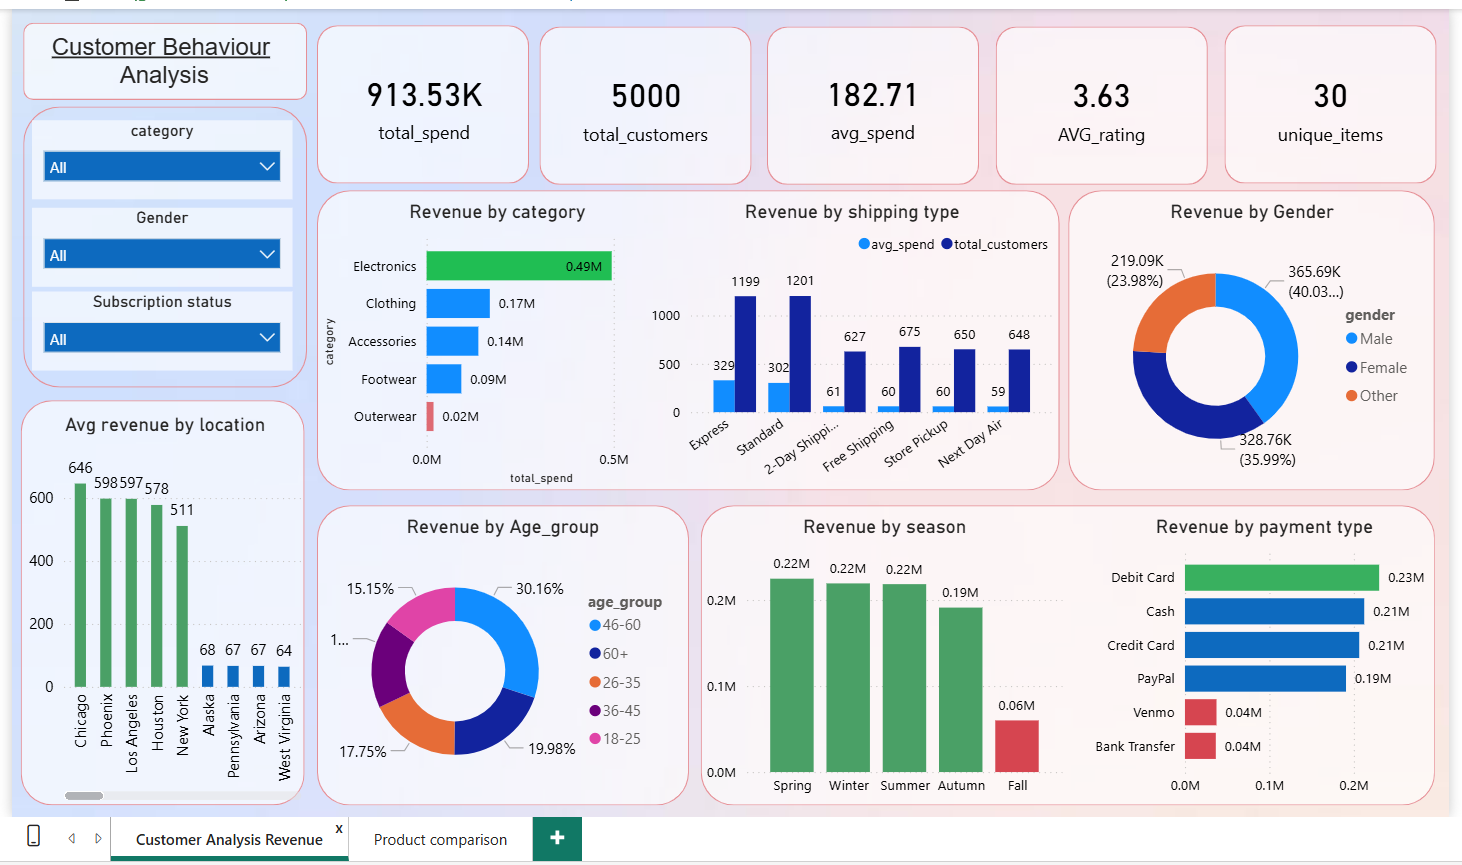

This screenshot's page, from the dashboard's own definition file:
{"tool":"powerbi","page":{"name":"Customer Analysis Revenue","canvas":[1280,720],"ordinal":0},"visuals":[{"type":"shape","box":[271.2,14.7,189,141.1],"z":0},{"type":"shape","box":[9.8,87.1,252.8,250.3],"z":0,"group":"g1"},{"type":"slicer","title":"Subscription status","fields":{"Values":["Customer_behaviour_analysis.subscription_status"]},"box":[17.2,251.9,232,70.1],"z":1000,"group":"g1"},{"type":"shape","box":[7.4,348.5,252.8,360.7],"z":1000},{"type":"slicer","title":"Gender","fields":{"Values":["Customer_behaviour_analysis.gender"]},"box":[17.2,176.9,232,70.1],"z":2000,"group":"g1"},{"type":"shape","box":[271.2,441.7,331.3,267.5],"z":2000},{"type":"slicer","title":"category","fields":{"Values":["Customer_behaviour_analysis.category"]},"box":[17.2,99.5,232,70.1],"z":3000,"group":"g1"},{"type":"shape","box":[941.1,162,326.4,267.5],"z":3000},{"type":"shape","box":[271.2,162,661.4,267.5],"z":4000},{"type":"shape","box":[613.5,441.7,654,267.5],"z":5000},{"type":"shape","box":[9.8,12.3,252.8,68.7],"z":6000},{"type":"shape","box":[469.9,16,189,141.1],"z":7000},{"type":"shape","box":[672.4,16,189,141.1],"z":8000},{"type":"shape","box":[876.1,16,189,141.1],"z":9000},{"type":"shape","box":[1079.8,14.7,189,141.1],"z":10000},{"type":"card","fields":{"Values":["Customer_behaviour_analysis.total_spend"]},"box":[283.4,16,166.9,139.9],"z":11000},{"type":"card","fields":{"Values":["Customer_behaviour_analysis.total_customers"]},"box":[481,17.2,166.9,139.9],"z":12000},{"type":"card","fields":{"Values":["Customer_behaviour_analysis.avg_spend"]},"box":[683.4,16,166.9,139.9],"z":13000},{"type":"card","fields":{"Values":["Customer_behaviour_analysis.AVG_rating"]},"box":[887.1,17.2,166.9,139.9],"z":14000},{"type":"card","fields":{"Values":["Customer_behaviour_analysis.unique_items"]},"box":[1090.8,17.2,166.9,139.9],"z":15000},{"type":"donutChart","title":"Revenue by Gender","fields":{"Category":["Customer_behaviour_analysis.gender"],"Y":["Customer_behaviour_analysis.total_spend"]},"box":[952.2,170.6,305.5,258.9],"z":16000},{"type":"donutChart","title":"Revenue by Age_group","fields":{"Category":["Customer_behaviour_analysis.age_group"],"Y":["Customer_behaviour_analysis.total_spend"]},"box":[271.2,450.3,331.3,258.9],"z":17000},{"type":"barChart","title":"Revenue by category","fields":{"Category":["Customer_behaviour_analysis.category"],"Y":["Customer_behaviour_analysis.total_spend"]},"box":[271.2,170.6,321.5,258.9],"z":18000},{"type":"clusteredColumnChart","title":"Revenue by shipping type","fields":{"Category":["Customer_behaviour_analysis.shipping_type"],"Y":["Customer_behaviour_analysis.avg_spend","Customer_behaviour_analysis.total_customers"]},"box":[564.4,170.6,368.1,258.9],"z":19000},{"type":"clusteredColumnChart","title":"Revenue by season","fields":{"Category":["Customer_behaviour_analysis.season"],"Y":["Customer_behaviour_analysis.total_spend"]},"box":[613.5,450.3,327.6,258.9],"z":20000},{"type":"barChart","title":"Revenue by payment type","fields":{"Category":["Customer_behaviour_analysis.payment_method"],"Y":["Customer_behaviour_analysis.total_spend"]},"box":[952.2,450.3,327.6,258.9],"z":21000},{"type":"columnChart","title":"Avg revenue  by location","fields":{"Category":["Customer_behaviour_analysis.location"],"Y":["Customer_behaviour_analysis.avg_spend"]},"box":[9.8,359.5,252.8,349.7],"z":22000},{"type":"group","id":"g1","title":"Group 2","box":[9.8,87.1,252.8,250.3],"z":23000},{"type":"textbox","box":[17.2,17.2,231.9,63.8],"z":24000}]}

Visuals, with their boxes on the page's 1280x720 design canvas (x1, y1, x2, y2). These are canvas units, not pixel positions in the 1462x865 screenshot, which may show the page scaled, cropped or inside an application window:
shape: {"left": 271, "top": 15, "right": 460, "bottom": 156}
shape: {"left": 10, "top": 87, "right": 263, "bottom": 337}
"Subscription status" slicer: {"left": 17, "top": 252, "right": 249, "bottom": 322}
shape: {"left": 7, "top": 348, "right": 260, "bottom": 709}
"Gender" slicer: {"left": 17, "top": 177, "right": 249, "bottom": 247}
shape: {"left": 271, "top": 442, "right": 602, "bottom": 709}
"category" slicer: {"left": 17, "top": 100, "right": 249, "bottom": 170}
shape: {"left": 941, "top": 162, "right": 1268, "bottom": 430}
shape: {"left": 271, "top": 162, "right": 933, "bottom": 430}
shape: {"left": 614, "top": 442, "right": 1268, "bottom": 709}
shape: {"left": 10, "top": 12, "right": 263, "bottom": 81}
shape: {"left": 470, "top": 16, "right": 659, "bottom": 157}
shape: {"left": 672, "top": 16, "right": 861, "bottom": 157}
shape: {"left": 876, "top": 16, "right": 1065, "bottom": 157}
shape: {"left": 1080, "top": 15, "right": 1269, "bottom": 156}
card - Customer_behaviour_analysis.total_spend: {"left": 283, "top": 16, "right": 450, "bottom": 156}
card - Customer_behaviour_analysis.total_customers: {"left": 481, "top": 17, "right": 648, "bottom": 157}
card - Customer_behaviour_analysis.avg_spend: {"left": 683, "top": 16, "right": 850, "bottom": 156}
card - Customer_behaviour_analysis.AVG_rating: {"left": 887, "top": 17, "right": 1054, "bottom": 157}
card - Customer_behaviour_analysis.unique_items: {"left": 1091, "top": 17, "right": 1258, "bottom": 157}
"Revenue by Gender" donutChart: {"left": 952, "top": 171, "right": 1258, "bottom": 430}
"Revenue by Age_group" donutChart: {"left": 271, "top": 450, "right": 602, "bottom": 709}
"Revenue by category" barChart: {"left": 271, "top": 171, "right": 593, "bottom": 430}
"Revenue by shipping type" clusteredColumnChart: {"left": 564, "top": 171, "right": 932, "bottom": 430}
"Revenue by season" clusteredColumnChart: {"left": 614, "top": 450, "right": 941, "bottom": 709}
"Revenue by payment type" barChart: {"left": 952, "top": 450, "right": 1280, "bottom": 709}
"Avg revenue  by location" columnChart: {"left": 10, "top": 360, "right": 263, "bottom": 709}
"Group 2" group: {"left": 10, "top": 87, "right": 263, "bottom": 337}
textbox: {"left": 17, "top": 17, "right": 249, "bottom": 81}
